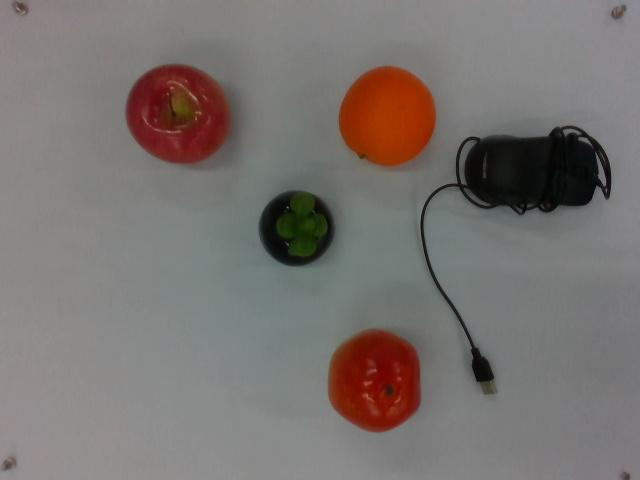apple: (124, 59, 228, 165)
mangosteen: (258, 185, 334, 269)
mouse: (449, 123, 620, 221)
orange: (338, 60, 437, 171)
pomegranate: (329, 325, 425, 435)
